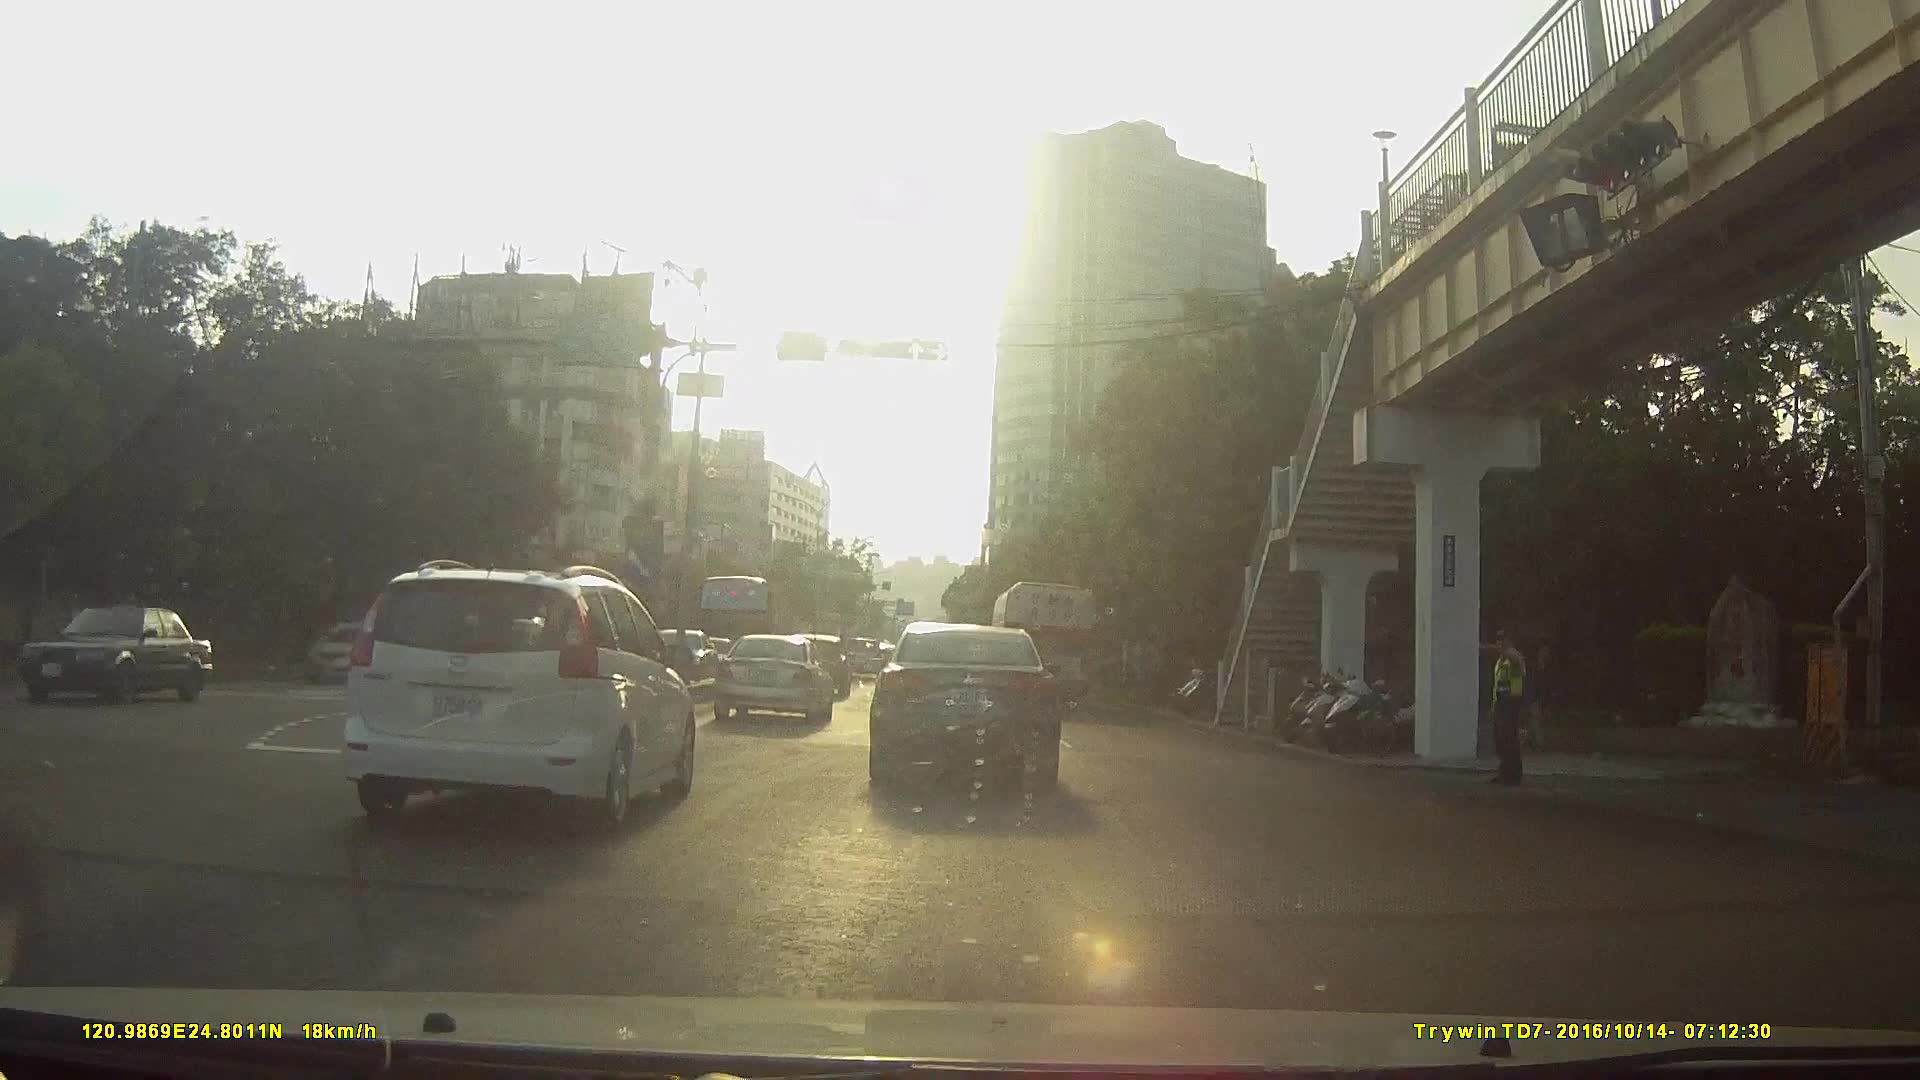pedestrian: (1481, 627, 1535, 786)
vehicle: (250, 556, 684, 868), (340, 554, 693, 826), (864, 613, 1058, 787), (27, 603, 219, 709), (985, 577, 1096, 709), (709, 627, 833, 722), (690, 569, 789, 668), (295, 615, 411, 693), (837, 635, 886, 684)
